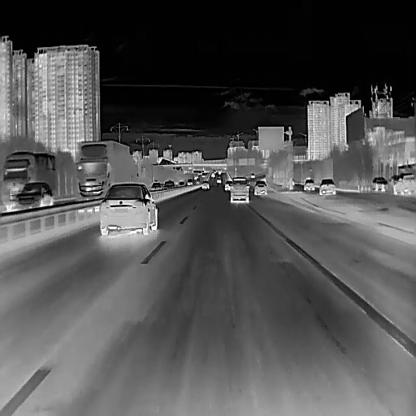car: (99, 183, 157, 235), (16, 182, 53, 206), (230, 176, 249, 204), (394, 173, 416, 194), (318, 178, 336, 194), (372, 176, 387, 191), (254, 180, 266, 195), (303, 179, 315, 190), (151, 181, 165, 189), (164, 178, 175, 188), (224, 180, 232, 190), (202, 180, 209, 188), (186, 177, 192, 185), (178, 181, 185, 186), (216, 176, 221, 182), (250, 172, 255, 177), (210, 172, 214, 176), (202, 172, 204, 176)
truck: (74, 140, 129, 200), (3, 150, 54, 202)
